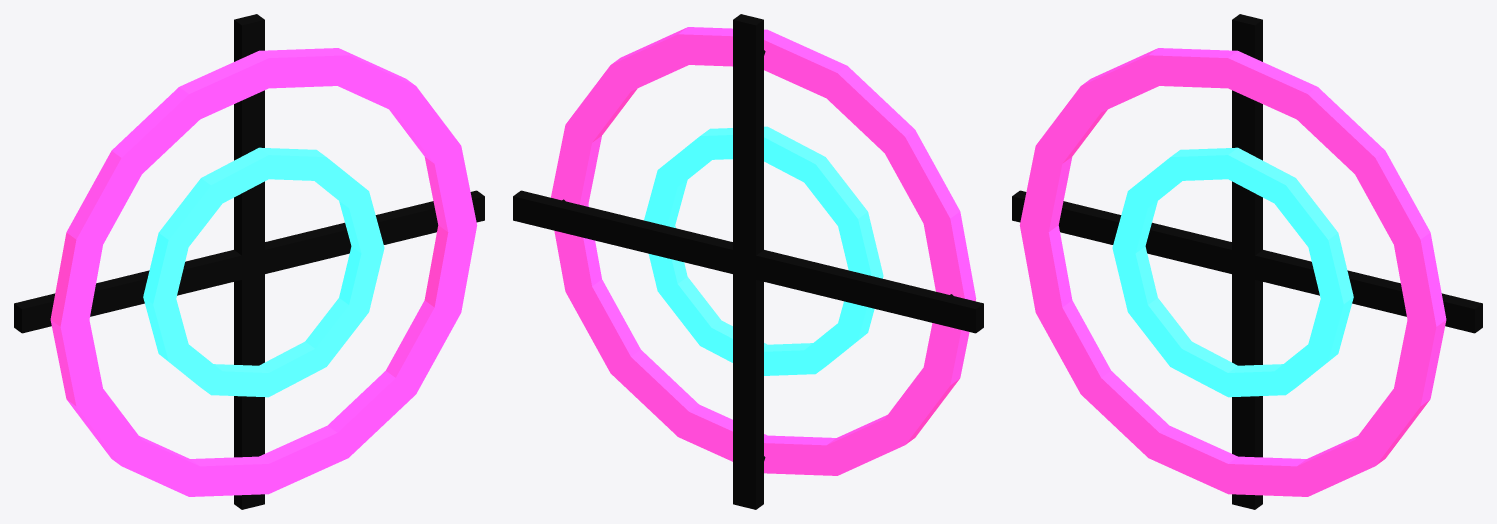
The model's file is SM_HLight_NeonRing.glb.
3 views of the same model, side by side, from view 1: azimuth 30°, elevation 25°; view 2: azimuth 150°, elevation 25°; view 3: azimuth 330°, elevation 25° (orthographic).
Visible parts, largest first — view 1: SM_HLight_NeonRing; view 2: SM_HLight_NeonRing; view 3: SM_HLight_NeonRing.
Part boxes in pixels (x1,y1,x2,y2): SM_HLight_NeonRing: (14,14,484,509); SM_HLight_NeonRing: (513,14,983,509); SM_HLight_NeonRing: (1012,14,1482,509).
Size of the model in its own units: 0.8 by 0.8 by 0.07.
